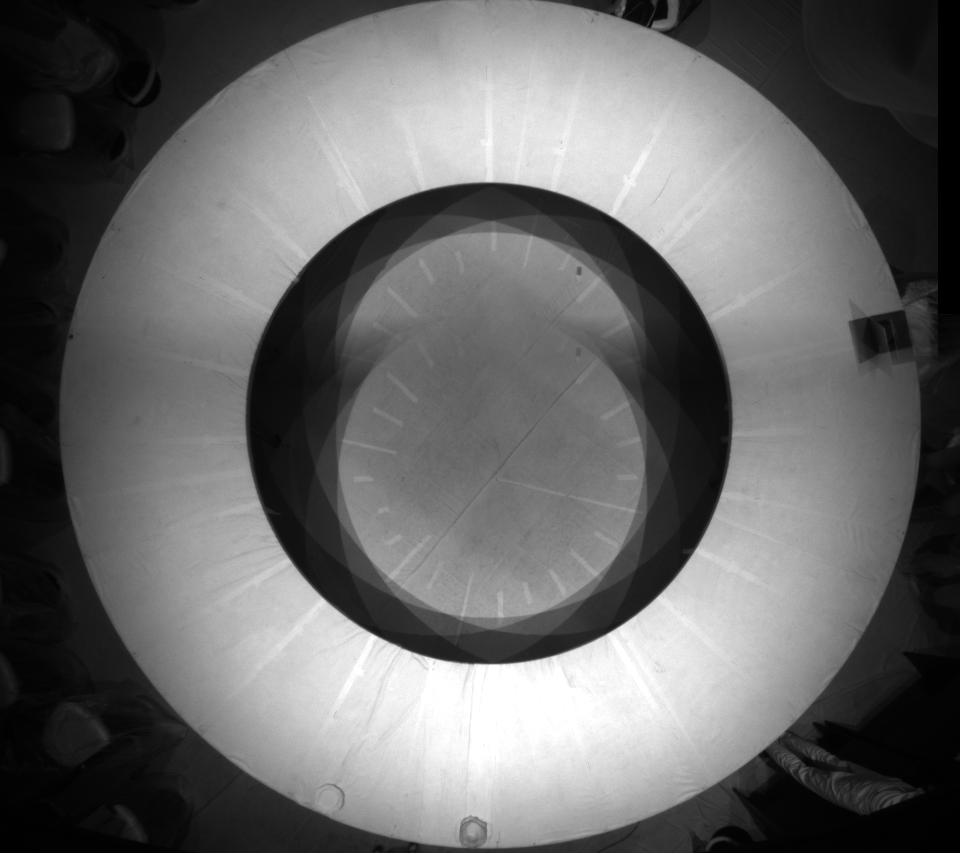Plate: (311, 780, 346, 816)
